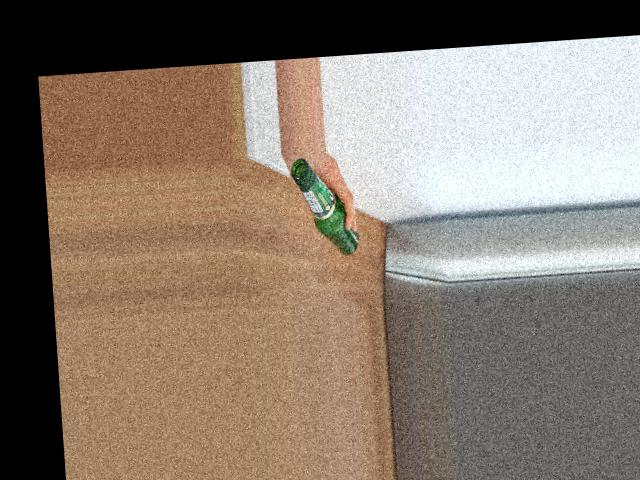beer: (289, 154, 359, 258)
